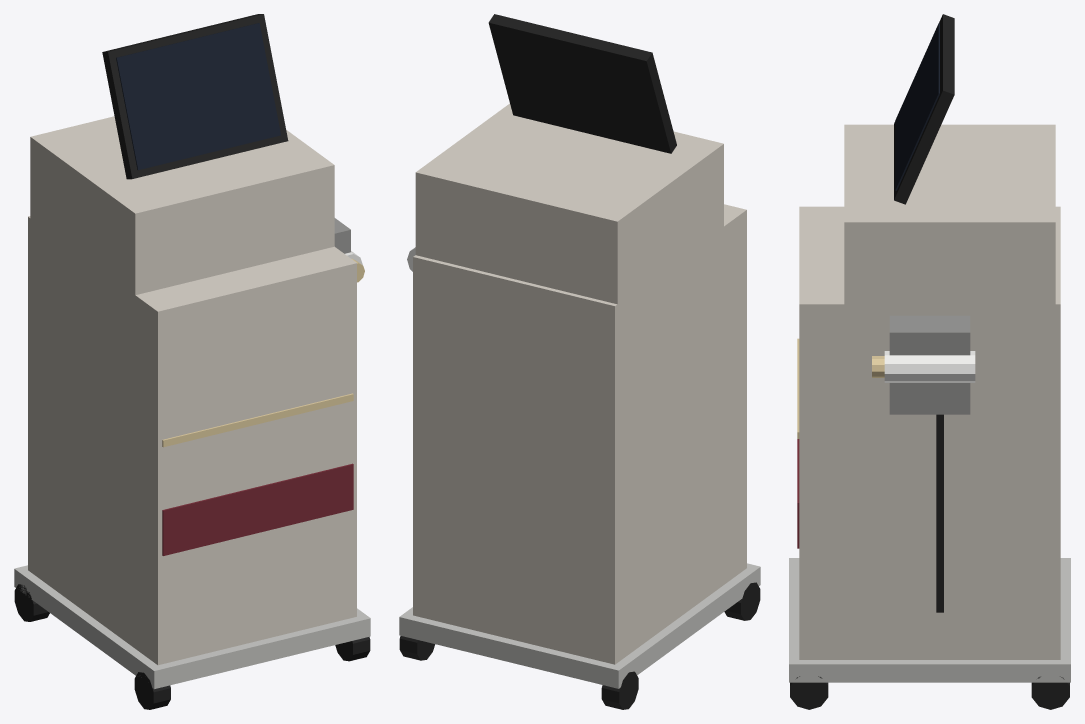
The model's file is ultraformer.glb.
The picture shows the model from 3 angles, left to right: view 1: azimuth 30°, elevation 25°; view 2: azimuth 150°, elevation 25°; view 3: azimuth 270°, elevation 25°; orthographic projection.
Visible parts, largest first — view 1: ultraformer; view 2: ultraformer; view 3: ultraformer.
Part boxes in pixels (x1,y1,x2,y2): ultraformer: [14, 14, 370, 709]; ultraformer: [399, 14, 760, 709]; ultraformer: [789, 14, 1070, 709].
Bounding box in the file's own units: 0.592 × 1.33 × 0.56.
